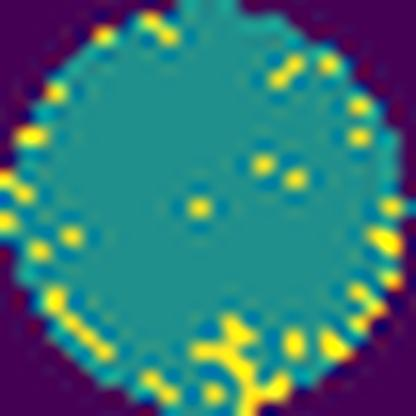Scratch: (183, 305, 294, 416), (42, 288, 122, 363)
